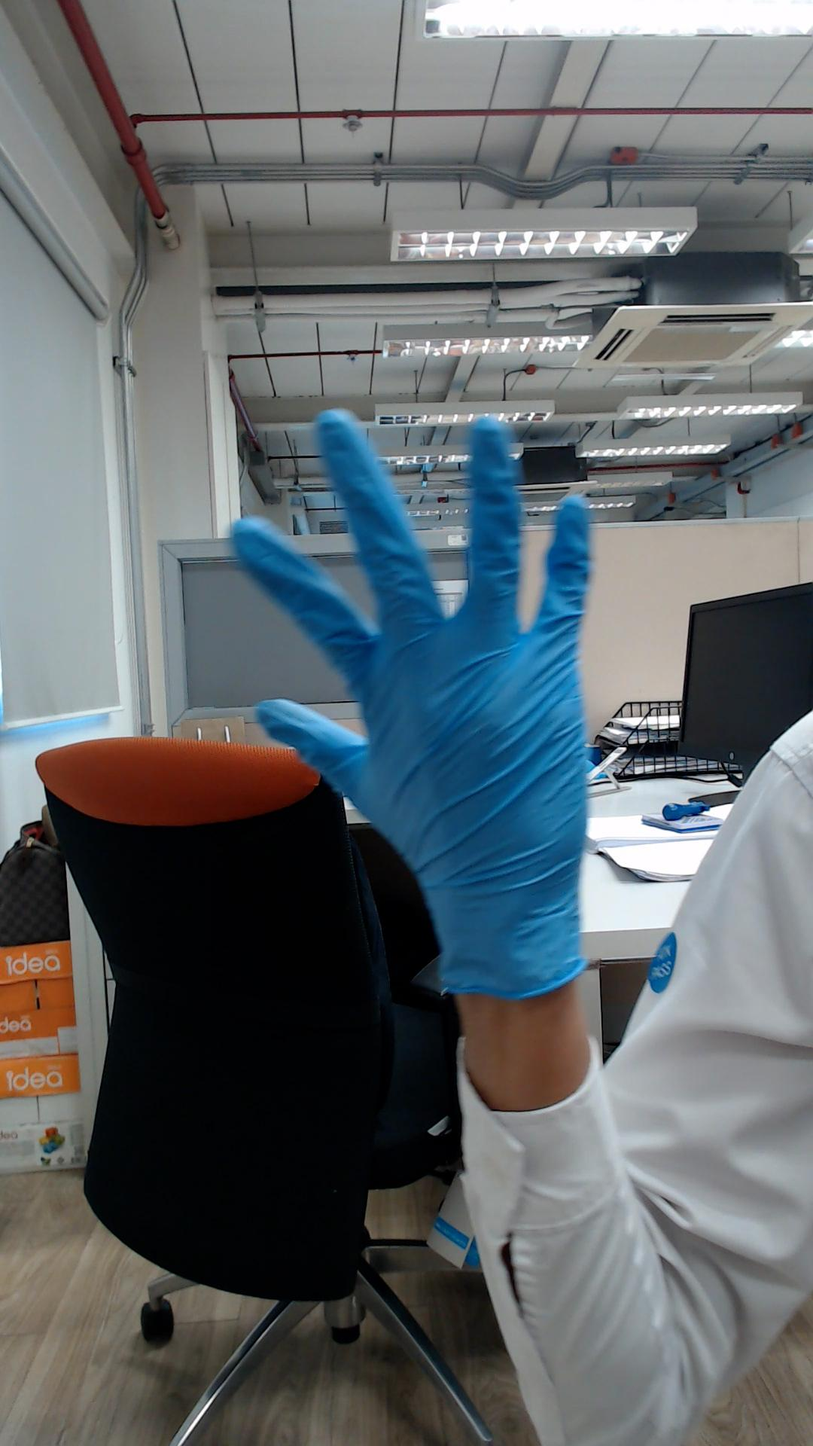gloves: (202, 392, 645, 868)
